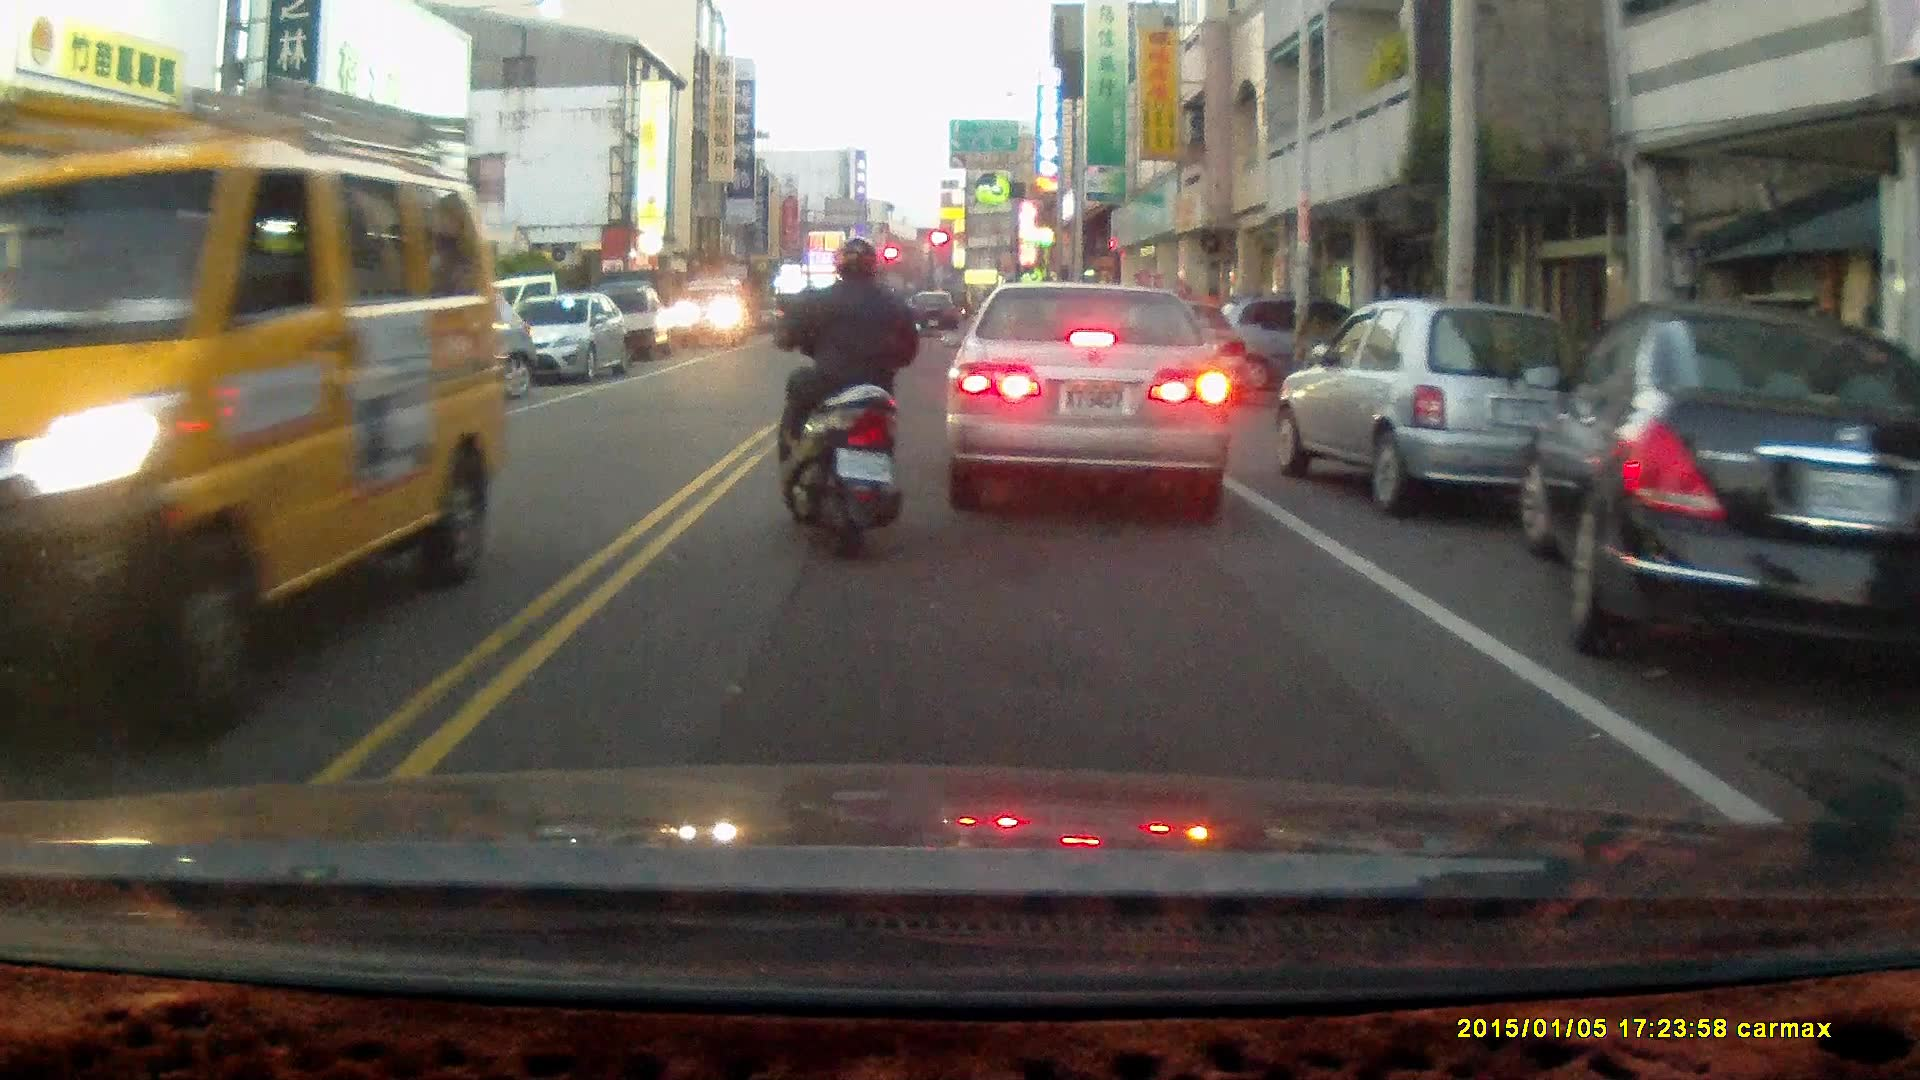rider: (777, 238, 925, 568)
vehicle: (5, 70, 510, 783), (1513, 302, 1920, 702), (1270, 301, 1582, 522), (943, 278, 1236, 511), (512, 290, 635, 385), (677, 272, 760, 342)
